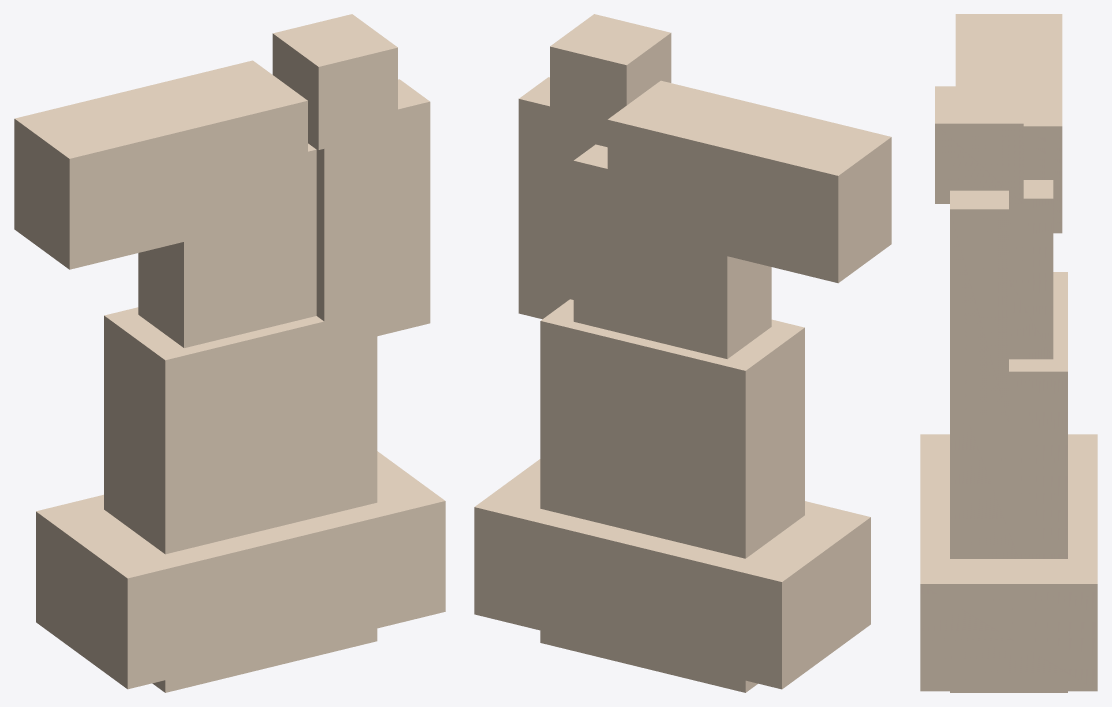
File: semestre_bolivie.gltf
The picture shows the model from 3 angles, left to right: view 1: azimuth 30°, elevation 25°; view 2: azimuth 150°, elevation 25°; view 3: azimuth 270°, elevation 25°; orthographic projection. The views are drawn at different scales.
Visible parts, largest first — view 1: semestre_bolivie; view 2: semestre_bolivie; view 3: semestre_bolivie.
Part boxes in pixels (x1,y1,x2,y2): semestre_bolivie: (14, 14, 445, 692); semestre_bolivie: (474, 14, 891, 692); semestre_bolivie: (920, 14, 1097, 692).
Size of the model in its own units: 0.675 by 1.08 by 0.3.
